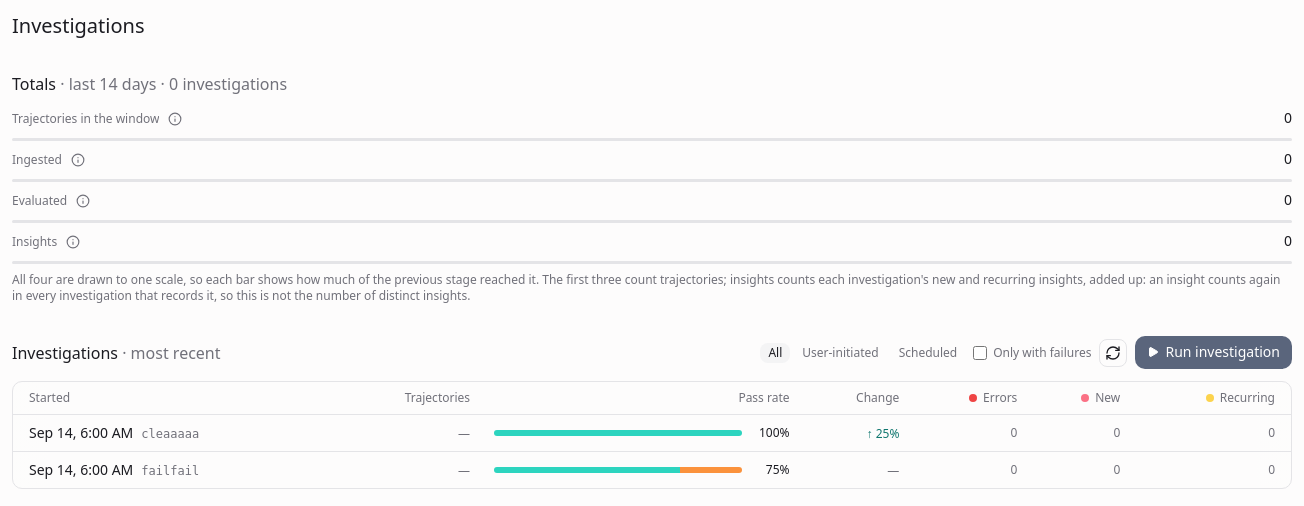
Scenario: the only-with-failures filter › hides a sweep that is provably clean
Check: the link "cleaaaaa" is shown, box [141,426,199,442]
Click the checkbox labelled "Only with failures": click(980, 352) [973,346,987,360]
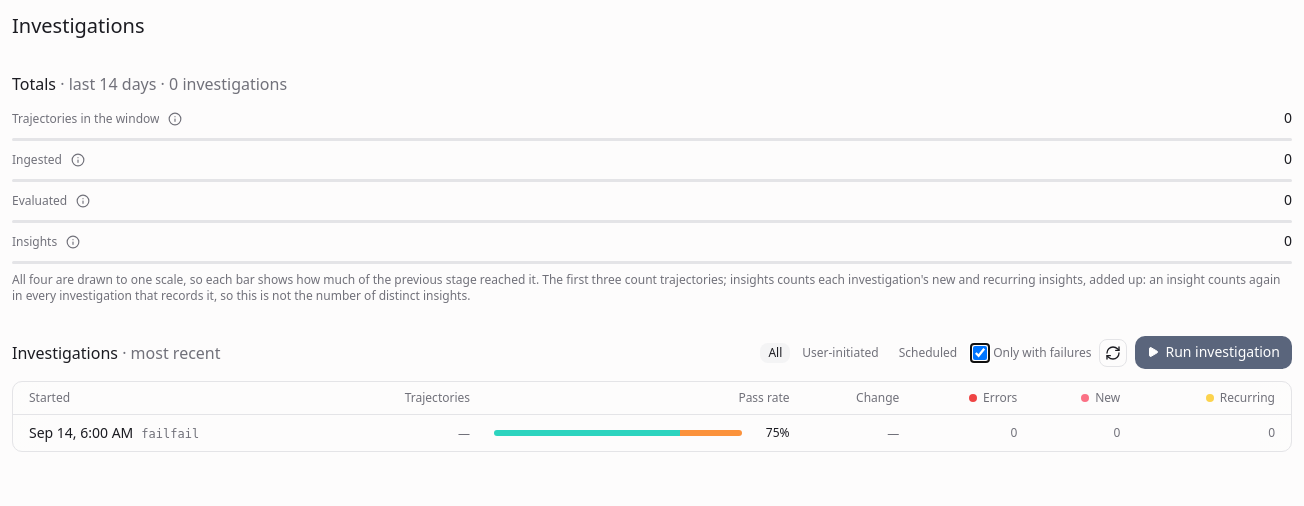
Check: the link "failfail" is shown, box [141,426,199,442]
Check: the link "cleaaaaa" is gone
